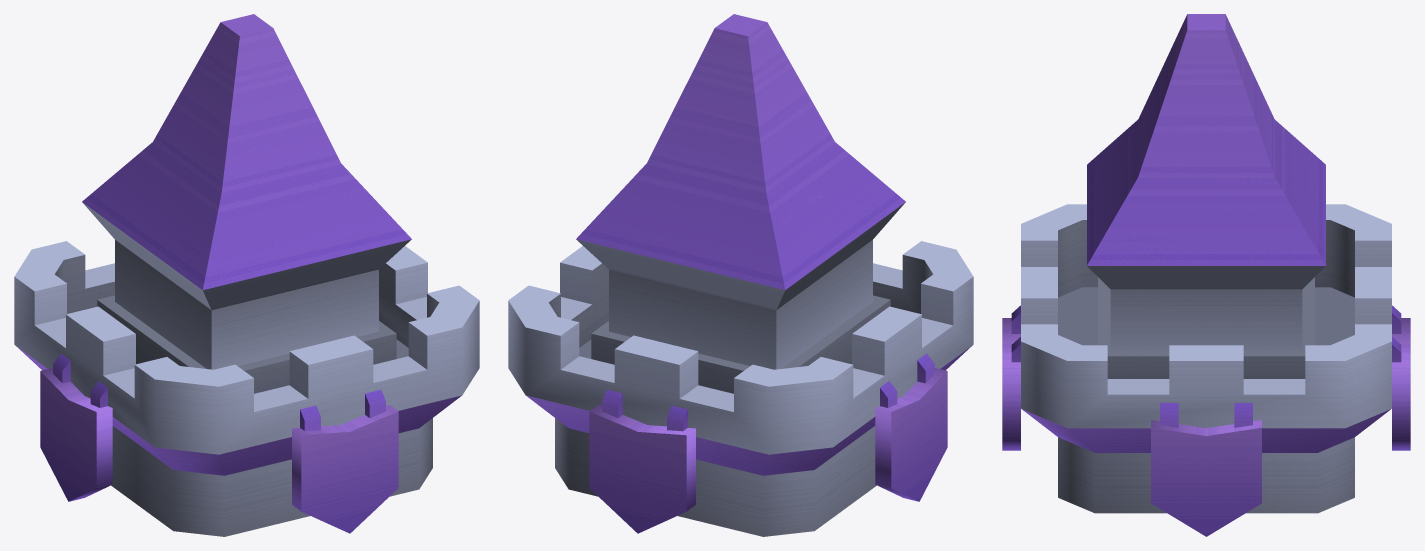
Rendered from tower-defense-kit--tower-square-roof-a.glb.
3 renders of one model, left to right at view 1: azimuth 30°, elevation 25°; view 2: azimuth 150°, elevation 25°; view 3: azimuth 270°, elevation 25°, orthographic.
Visible parts, largest first — view 1: tower-square-roof-a; view 2: tower-square-roof-a; view 3: tower-square-roof-a.
Part boxes in pixels (<box>): tower-square-roof-a: <box>14,14,479,536</box>; tower-square-roof-a: <box>508,14,973,536</box>; tower-square-roof-a: <box>1002,14,1410,536</box>.
Size of the model in its own units: 1.1 by 1.27 by 1.1.
1 material, 1 textured.
